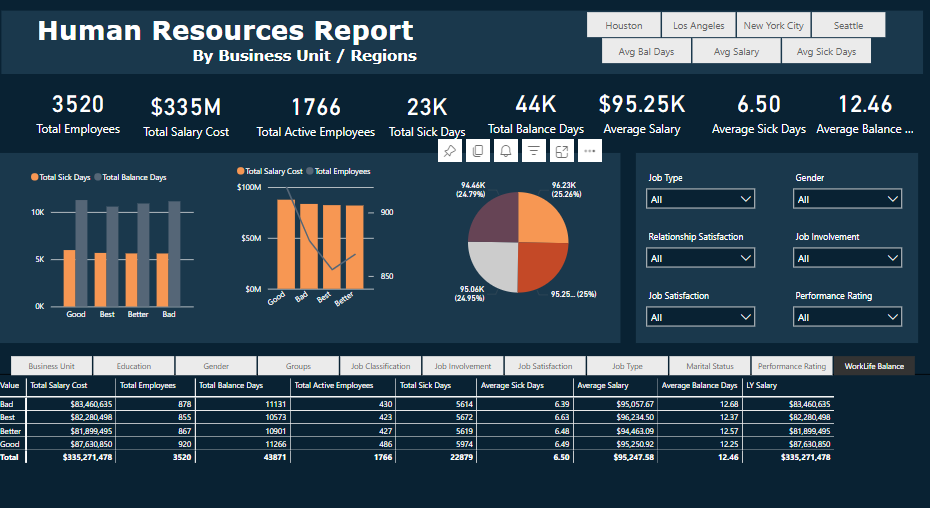

What the dashboard file says about the page in this screenshot:
{"tool":"powerbi","page":{"name":"Business Unit / Region Report","canvas":[1280,720],"ordinal":2},"visuals":[{"type":"basicShape","box":[872,208,392,264],"z":0},{"type":"basicShape","box":[0,208,864,264],"z":1000},{"type":"pivotTable","fields":{"Rows":["Dims.Value"],"Values":["All Measures.Total Salary Cost","All Measures.Total Employees","All Measures.Total Balance Days","All Measures.Total Active Employees","All Measures.Total Sick Days","All Measures.Average Sick Days","All Measures.Average Salary","All Measures.Average Balance Days","All Measures.LY Salary"]},"box":[0,512,1280,184],"z":2000},{"type":"basicShape","box":[0,16,1280,88],"z":3000},{"type":"textbox","box":[56,16,544,80],"z":4000},{"type":"card","fields":{"Values":["All Measures.Total Employess"]},"box":[49.2,107.6,136,88],"z":5000},{"type":"card","fields":{"Values":["All Measures.Total Salary Cost"]},"box":[192,112,144,88],"z":6000},{"type":"card","fields":{"Values":["All Measures.Total Active Employees"]},"box":[352,112,176,88],"z":7000},{"type":"card","fields":{"Values":["All Measures.Total Sick Days"]},"box":[528,112,128,88],"z":8000},{"type":"card","fields":{"Values":["All Measures.Total Balance Days"]},"box":[664,104,152,96],"z":9000},{"type":"card","fields":{"Values":["All Measures.Average Salary"]},"box":[808,104,152,96],"z":10000},{"type":"card","fields":{"Values":["All Measures.Average Sick Days"]},"box":[968,104,152,96],"z":11000},{"type":"card","fields":{"Values":["All Measures.Average Balance Days"]},"box":[1112,104,152,96],"z":12000},{"type":"lineStackedColumnComboChart","fields":{"Category":["Dims.Value"],"Y":["All Measures.Total Salary Cost"],"Y2":["All Measures.Total Employees"]},"box":[328,216,224,216],"z":13000},{"type":"clusteredColumnChart","fields":{"Y":["All Measures.Total Sick Days","All Measures.Total Balance Days"],"Category":["Dims.Value"]},"box":[48,224,232,224],"z":14000},{"type":"pieChart","fields":{"Category":["Dims.Value"],"Y":["All Measures.Measure Logic Avg"]},"box":[600,224,232,216],"z":15000},{"type":"slicer","fields":{"Values":["Human Resources.Gender"]},"box":[1080,232,168,64],"z":16000},{"type":"slicer","fields":{"Values":["Human Resources.Job Type"]},"box":[880,232,168,64],"z":17000},{"type":"slicer","fields":{"Values":["Human Resources.Job Involvement"]},"box":[1080,312,168,64],"z":18000},{"type":"slicer","fields":{"Values":["Human Resources.Job Satisfaction"]},"box":[880,392,168,64],"z":19000},{"type":"slicer","fields":{"Values":["Human Resources.Performance Rating"]},"box":[1080,392,168,64],"z":20000},{"type":"slicer","fields":{"Values":["Avg Metrics.Measure"]},"box":[803.8,48.1,415.7,48.1],"z":21000},{"type":"slicer","fields":{"Values":["Human Resources.Relationship Satisfaction"]},"box":[880,312,168,64],"z":22000},{"type":"slicer","fields":{"Values":["Human Resources.Business Unit"]},"box":[784.2,11.6,455.7,48.1],"z":23000},{"type":"slicer","fields":{"Values":["Dims.Dimensions"]},"box":[0,480,1280,40],"z":24000}]}

Visuals, with their boxes in screenshot pixels (x1, y1, x2, y2), scaled from the page's 1280x720 canvas onto the 930x508 screenshot:
basicShape: {"x1": 634, "y1": 147, "x2": 918, "y2": 333}
basicShape: {"x1": 0, "y1": 147, "x2": 628, "y2": 333}
pivotTable - Dims.Value x All Measures.Total Salary Cost: {"x1": 0, "y1": 361, "x2": 929, "y2": 491}
basicShape: {"x1": 0, "y1": 11, "x2": 929, "y2": 73}
textbox: {"x1": 41, "y1": 11, "x2": 436, "y2": 68}
card - All Measures.Total Employess: {"x1": 36, "y1": 76, "x2": 135, "y2": 138}
card - All Measures.Total Salary Cost: {"x1": 140, "y1": 79, "x2": 244, "y2": 141}
card - All Measures.Total Active Employees: {"x1": 256, "y1": 79, "x2": 384, "y2": 141}
card - All Measures.Total Sick Days: {"x1": 384, "y1": 79, "x2": 477, "y2": 141}
card - All Measures.Total Balance Days: {"x1": 482, "y1": 73, "x2": 593, "y2": 141}
card - All Measures.Average Salary: {"x1": 587, "y1": 73, "x2": 698, "y2": 141}
card - All Measures.Average Sick Days: {"x1": 703, "y1": 73, "x2": 814, "y2": 141}
card - All Measures.Average Balance Days: {"x1": 808, "y1": 73, "x2": 918, "y2": 141}
lineStackedColumnComboChart - Dims.Value x All Measures.Total Salary Cost: {"x1": 238, "y1": 152, "x2": 401, "y2": 305}
clusteredColumnChart - All Measures.Total Sick Days x All Measures.Total Balance Days: {"x1": 35, "y1": 158, "x2": 203, "y2": 316}
pieChart - Dims.Value x All Measures.Measure Logic Avg: {"x1": 436, "y1": 158, "x2": 604, "y2": 310}
slicer - Human Resources.Gender: {"x1": 785, "y1": 164, "x2": 907, "y2": 209}
slicer - Human Resources.Job Type: {"x1": 639, "y1": 164, "x2": 761, "y2": 209}
slicer - Human Resources.Job Involvement: {"x1": 785, "y1": 220, "x2": 907, "y2": 265}
slicer - Human Resources.Job Satisfaction: {"x1": 639, "y1": 277, "x2": 761, "y2": 322}
slicer - Human Resources.Performance Rating: {"x1": 785, "y1": 277, "x2": 907, "y2": 322}
slicer - Avg Metrics.Measure: {"x1": 584, "y1": 34, "x2": 886, "y2": 68}
slicer - Human Resources.Relationship Satisfaction: {"x1": 639, "y1": 220, "x2": 761, "y2": 265}
slicer - Human Resources.Business Unit: {"x1": 570, "y1": 8, "x2": 901, "y2": 42}
slicer - Dims.Dimensions: {"x1": 0, "y1": 339, "x2": 929, "y2": 367}
